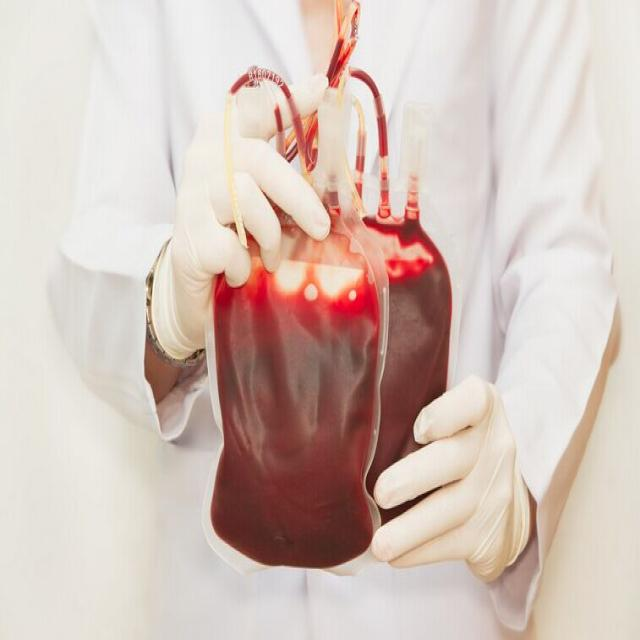B3: (204, 162, 387, 579)
